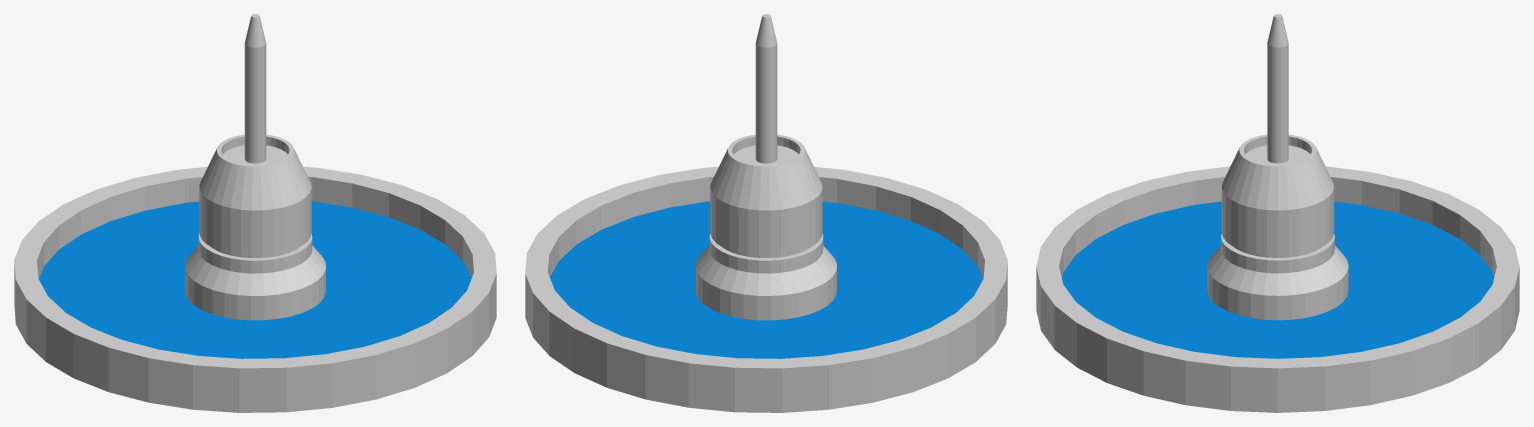
File: Fountain.fbx
The picture shows the model from 3 angles, left to right: view 1: azimuth 30°, elevation 25°; view 2: azimuth 150°, elevation 25°; view 3: azimuth 270°, elevation 25°; orthographic projection.
Parts seen in each view (by area): view 1: Cylinder; view 2: Cylinder; view 3: Cylinder.
Part boxes in pixels (<box>): Cylinder: <box>14,14,496,412</box>; Cylinder: <box>525,14,1007,412</box>; Cylinder: <box>1036,14,1519,412</box>.
Bounding box in the file's own units: 200 × 135 × 200.
